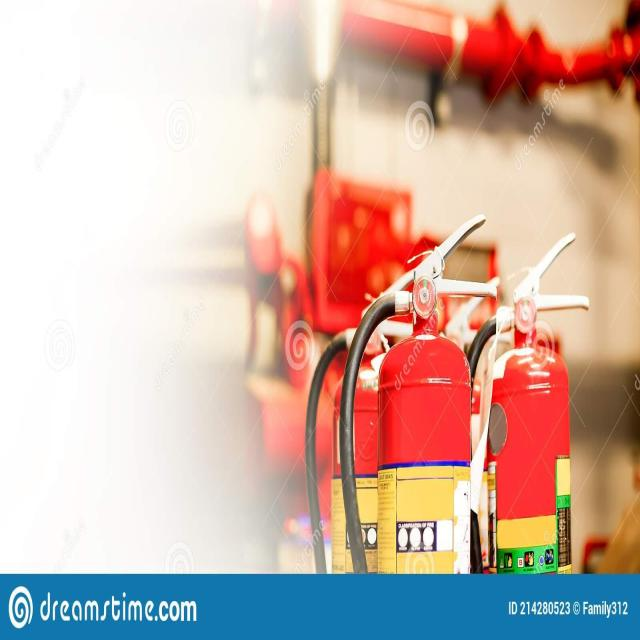fire_extinguisher: (343, 211, 498, 572), (458, 228, 592, 574), (304, 267, 428, 573)
